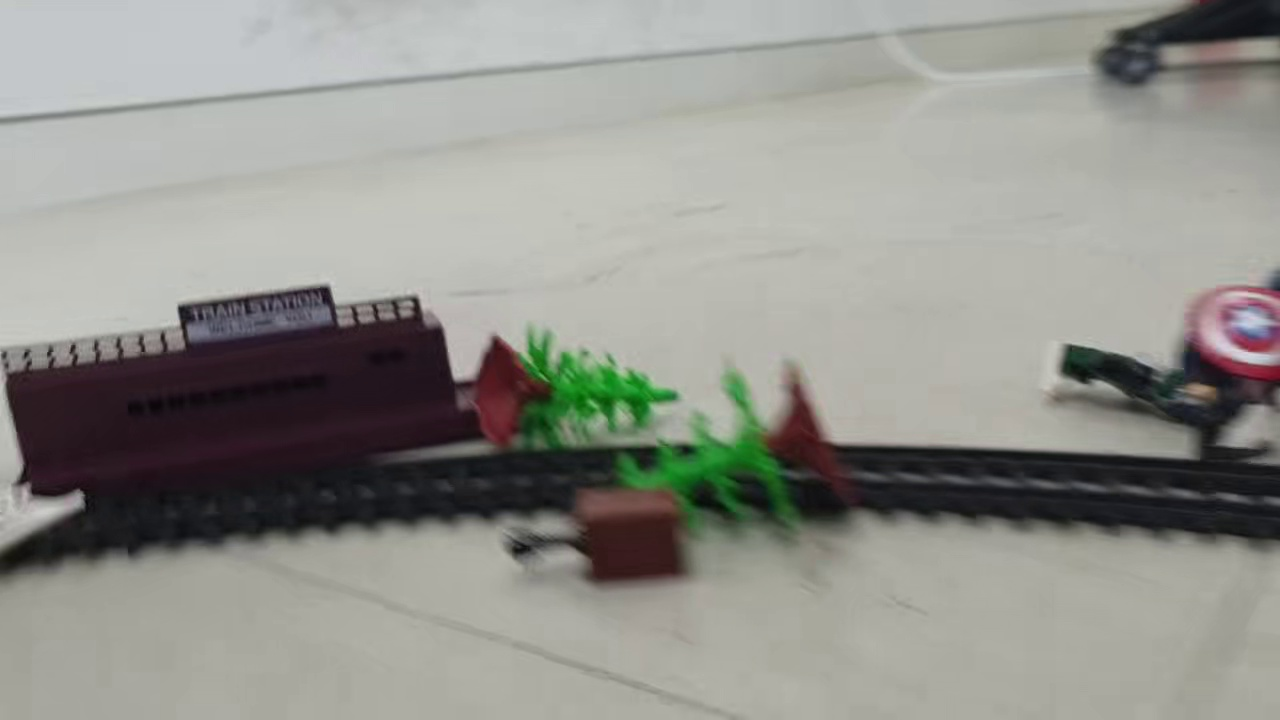box: (503, 493, 694, 585)
people: (1056, 261, 1280, 464)
tree: (611, 352, 837, 537), (468, 324, 688, 449)
web: (1, 480, 85, 552)
